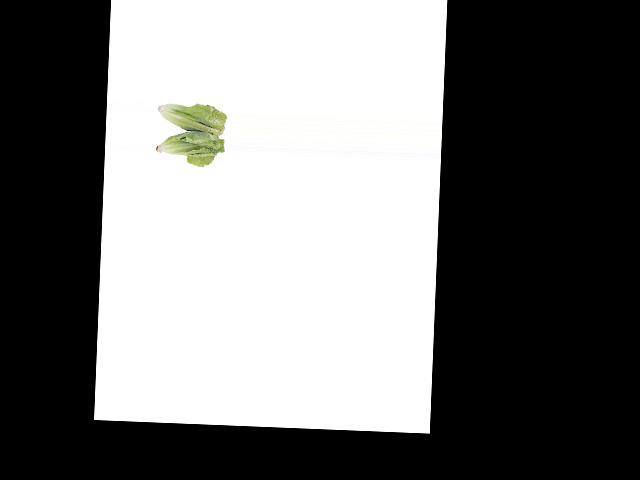lettuce: (155, 98, 227, 161)
